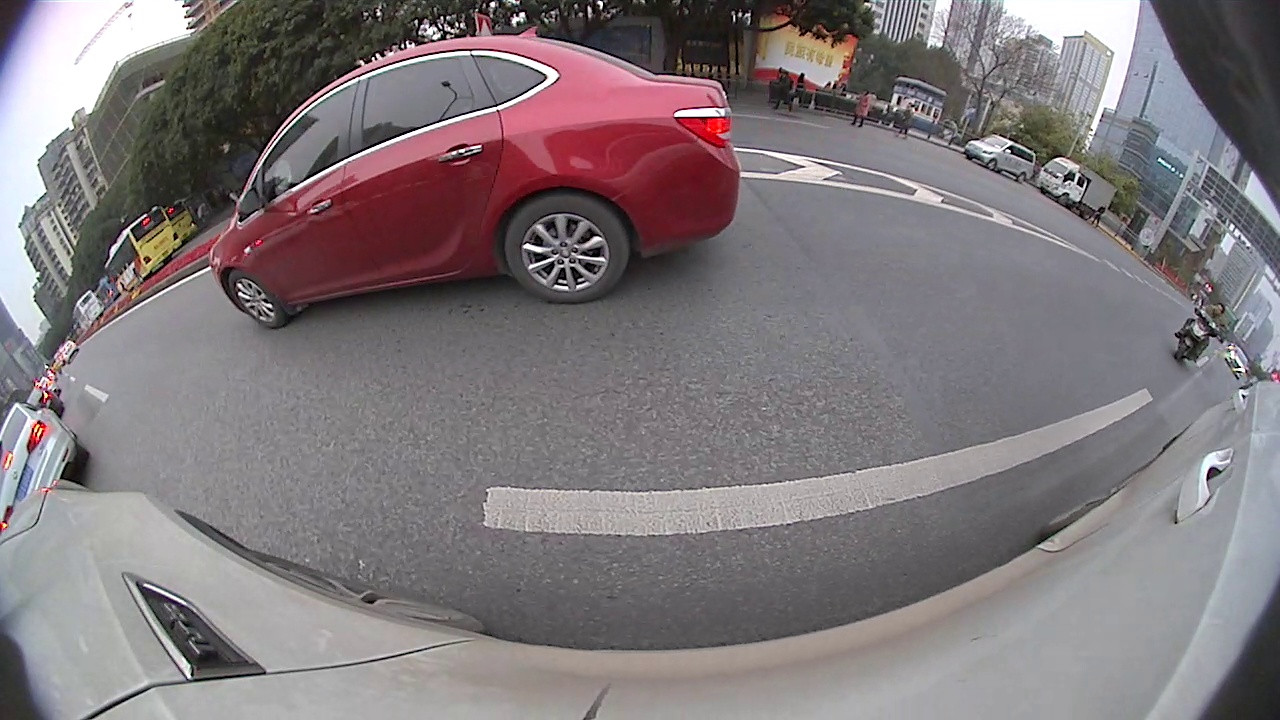bus: (98, 206, 180, 290), (166, 193, 199, 241)
car: (208, 27, 743, 335), (3, 400, 84, 535), (964, 132, 1037, 185)
front: (227, 270, 284, 330)
person: (780, 68, 792, 111), (858, 88, 870, 125)
rear: (504, 198, 630, 305)
rider: (1171, 298, 1225, 363)
truck: (1036, 153, 1118, 219)
